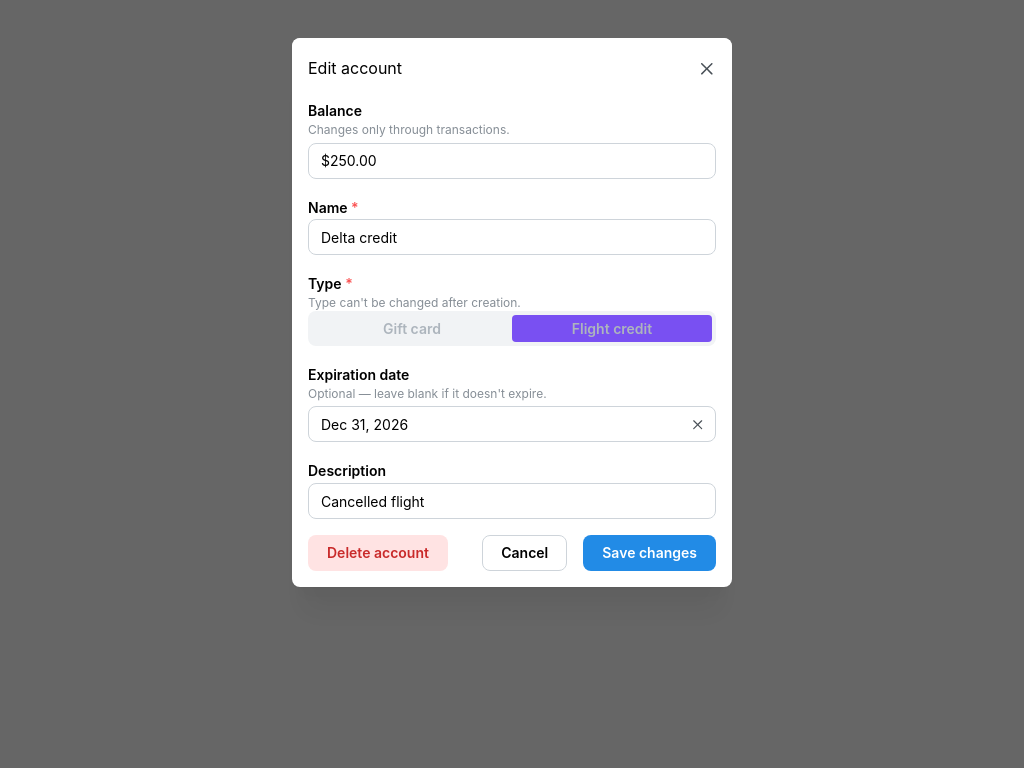
Test: EditAccountModal › after renaming the account › shows the API's field errors on the matching field
This screenshot has width=1024, height=768.
Step 1. Replace the text in the field labelled "Name *" with "Delta voucher" → (512, 237), box left=308, top=219, right=716, bottom=255
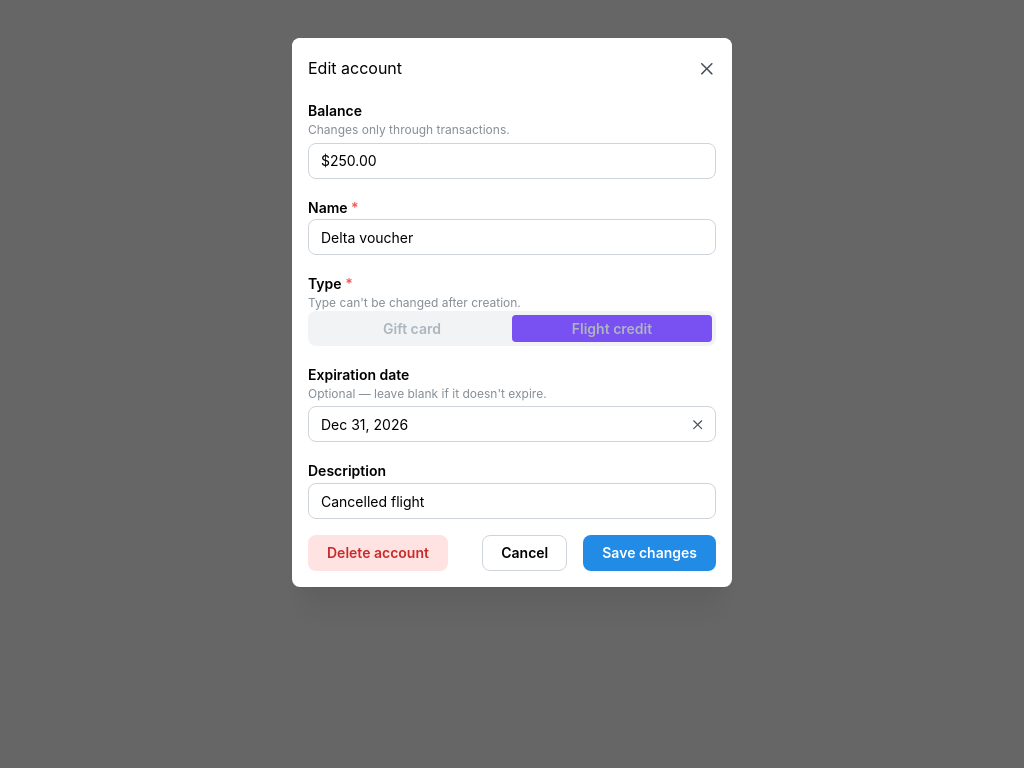
Step 2. Click the button "Save changes" → (650, 553), box left=583, top=535, right=716, bottom=571
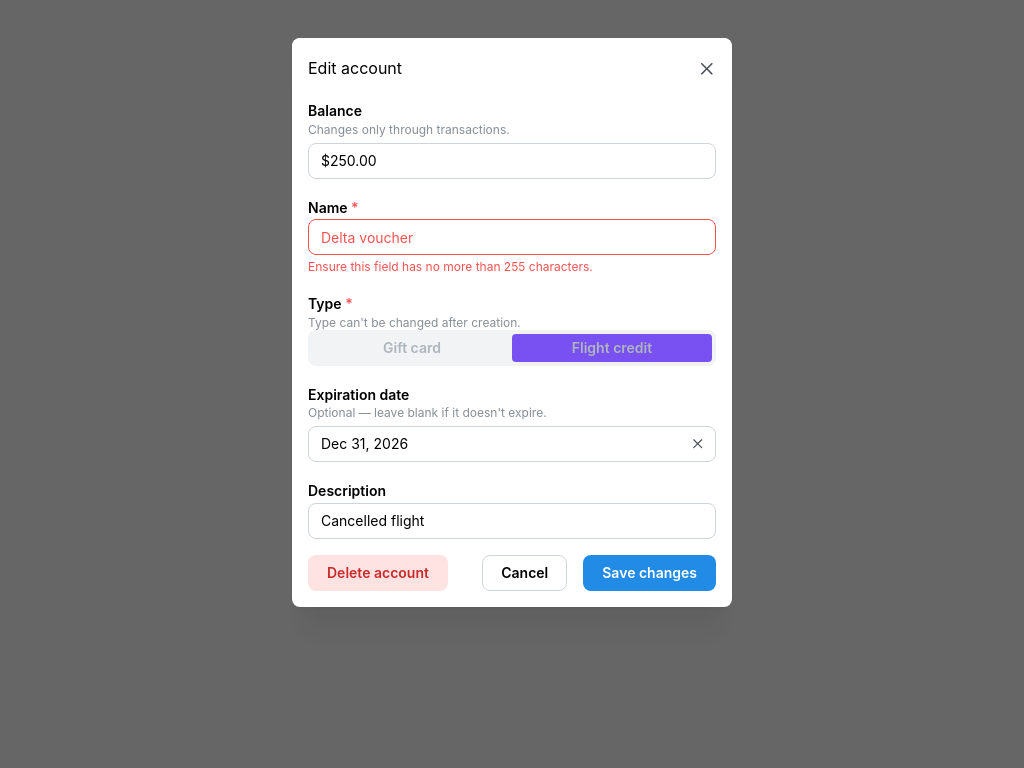
Check: the text "Ensure this field has no more than 255 characters." is shown, box left=308, top=259, right=593, bottom=274
